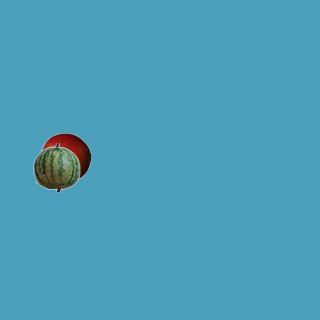Apple Braeburn: (40, 132, 90, 182)
Watermelon: (31, 142, 81, 192)
